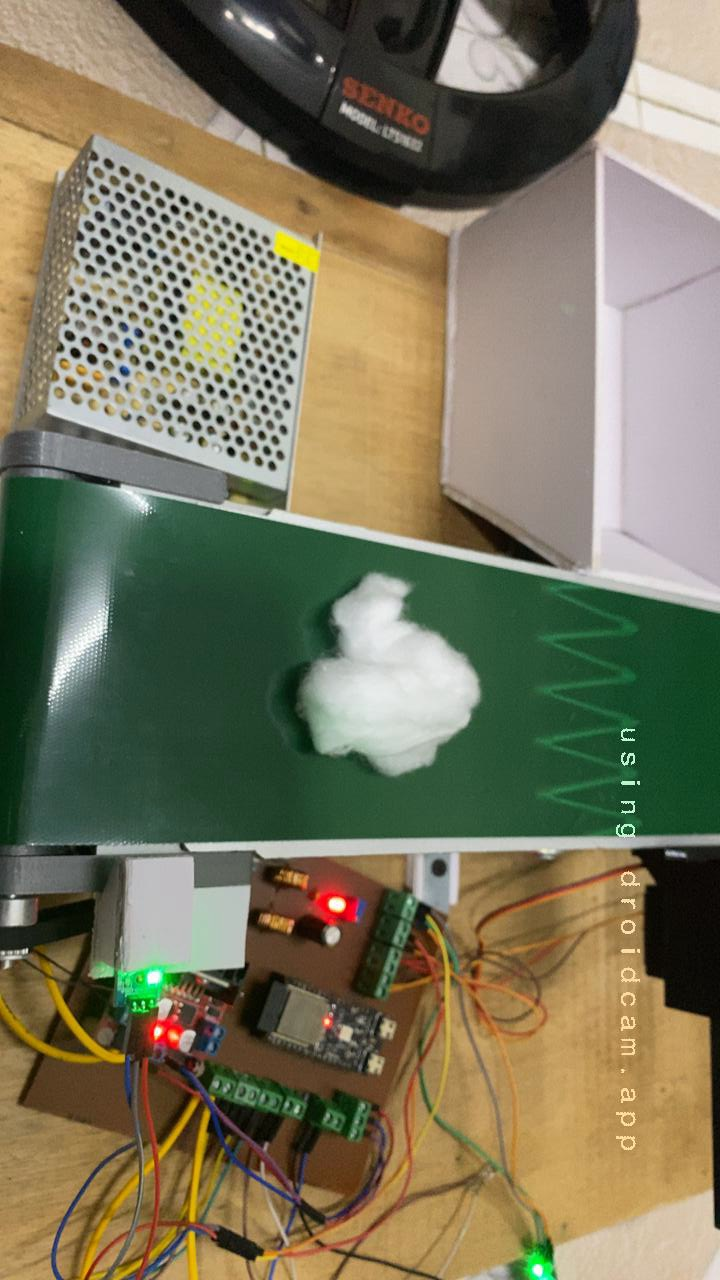cotton: (259, 550, 497, 803)
